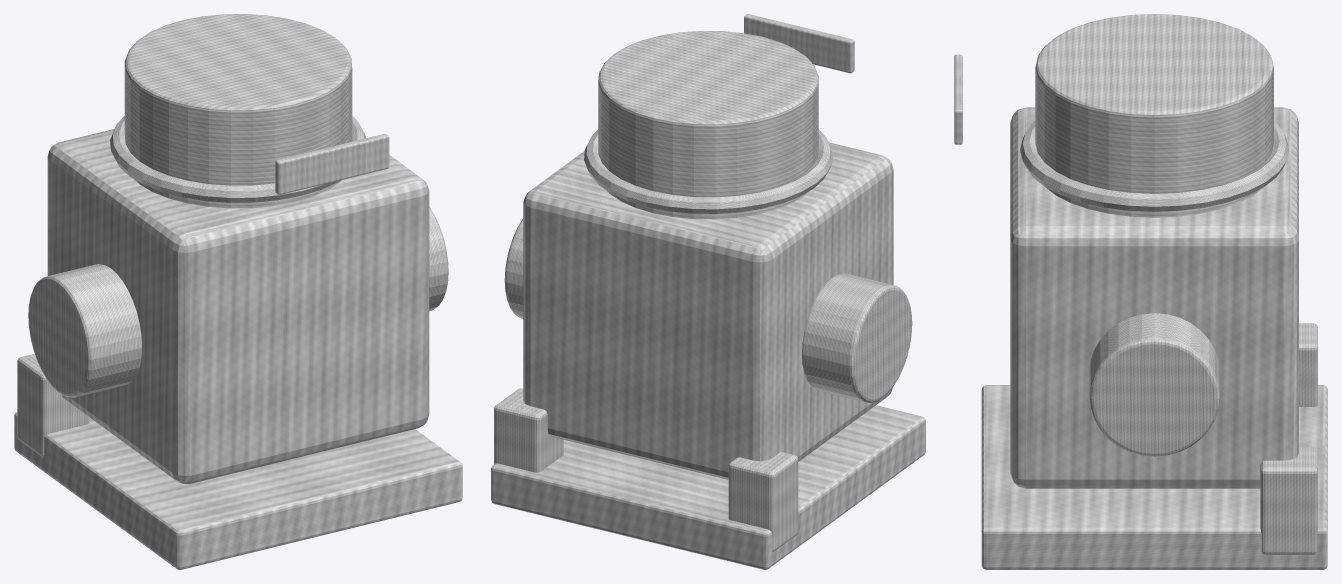
Rendered from pipeline_pump_variant_b.glb.
3 renders of one model, left to right at view 1: azimuth 30°, elevation 25°; view 2: azimuth 150°, elevation 25°; view 3: azimuth 270°, elevation 25°, orthographic. The views are drawn at different scales.
Visible parts, largest first — view 1: Pump housing.001, Pump motor.001, Foundation.001, Pump inlet.001, Asset ID plate.002, Motor cooling ring.002, Service foot.002, Pump outlet.001; view 2: Pump housing.001, Pump motor.001, Foundation.001, Pump inlet.001, Service foot.002, Motor cooling ring.002, Service foot.003, Asset ID plate.002, Pump outlet.001; view 3: Pump housing.001, Pump motor.001, Foundation.001, Pump outlet.001, Motor cooling ring.002, Service foot.003, Service foot.002, Asset ID plate.002.
Boxes of the visible parts, bbox=[...] form: Pump housing.001: bbox=[47, 129, 429, 483]; Pump motor.001: bbox=[124, 14, 352, 208]; Foundation.001: bbox=[14, 412, 462, 569]; Pump inlet.001: bbox=[28, 264, 141, 397]; Asset ID plate.002: bbox=[275, 133, 389, 194]; Motor cooling ring.002: bbox=[110, 116, 365, 202]; Service foot.002: bbox=[17, 354, 89, 457]; Pump outlet.001: bbox=[429, 207, 448, 310]; Pump housing.001: bbox=[523, 142, 893, 479]; Pump motor.001: bbox=[598, 31, 818, 219]; Foundation.001: bbox=[491, 405, 925, 569]; Pump inlet.001: bbox=[802, 273, 912, 402]; Service foot.002: bbox=[728, 452, 798, 551]; Motor cooling ring.002: bbox=[584, 129, 832, 213]; Service foot.003: bbox=[494, 388, 563, 472]; Asset ID plate.002: bbox=[744, 14, 854, 73]; Pump outlet.001: bbox=[504, 218, 523, 318]; Pump housing.001: bbox=[1010, 107, 1298, 488]; Pump motor.001: bbox=[1035, 14, 1273, 217]; Foundation.001: bbox=[981, 385, 1327, 569]; Pump outlet.001: bbox=[1089, 313, 1219, 456]; Motor cooling ring.002: bbox=[1020, 121, 1289, 211]; Service foot.003: bbox=[1260, 446, 1317, 554]; Service foot.002: bbox=[1299, 323, 1317, 406]; Asset ID plate.002: bbox=[954, 54, 962, 144].
Size of what is drawn, in the model's own units: 2.27 by 2.5 by 1.94.
Materials: 5 (5 with a texture image).
